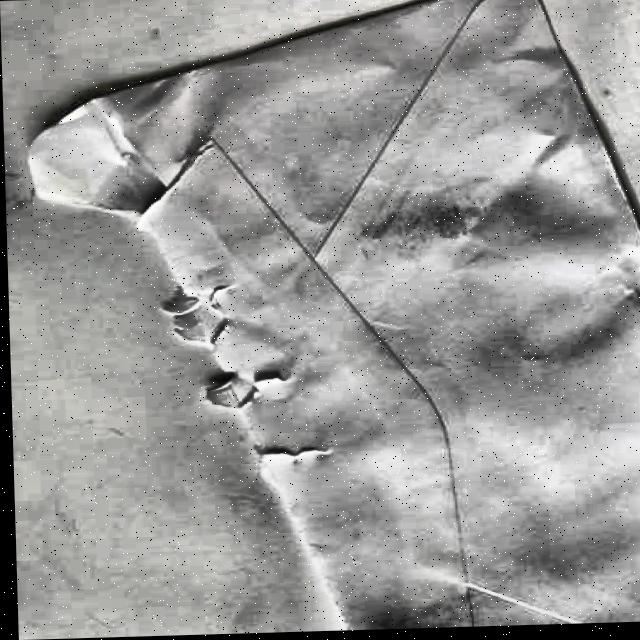paper: (19, 0, 640, 639)
